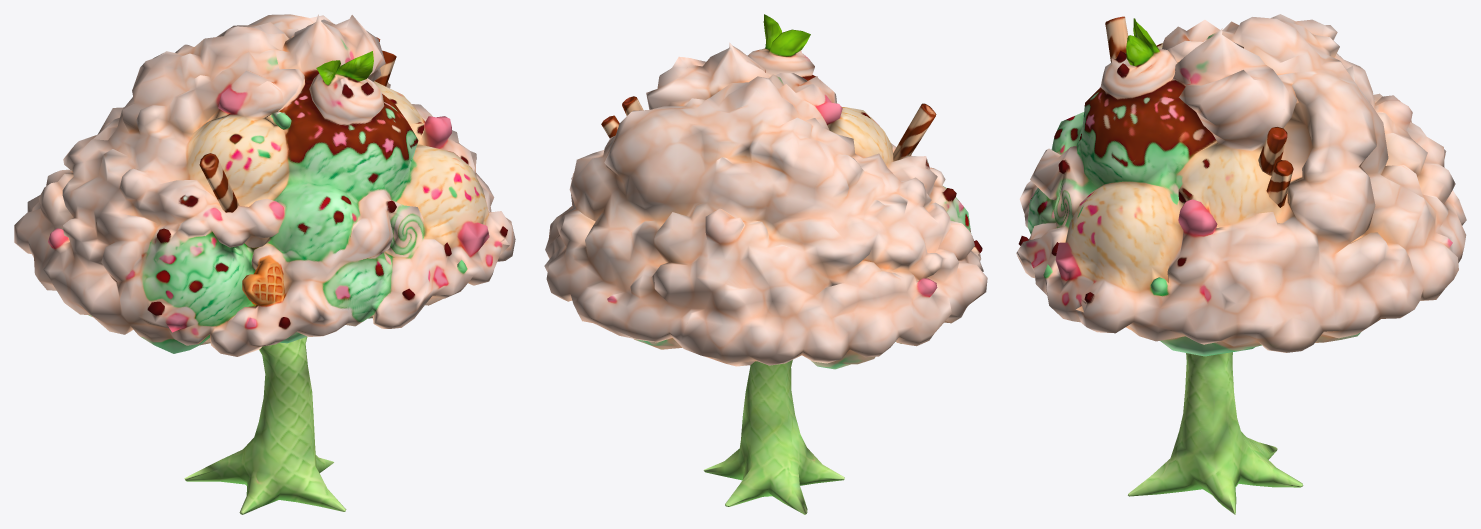
The model's file is snow64-sundae-tree-mint.glb.
The picture shows the model from 3 angles, left to right: view 1: azimuth 30°, elevation 25°; view 2: azimuth 150°, elevation 25°; view 3: azimuth 270°, elevation 25°; orthographic projection. The views are drawn at different scales.
Visible parts, largest first — view 1: geometry_0; view 2: geometry_0; view 3: geometry_0.
Boxes of the visible parts, x1,y1,x2,y2 form: geometry_0: [14, 14, 515, 514]; geometry_0: [544, 14, 987, 514]; geometry_0: [1016, 14, 1466, 514].
Size of the model in its own units: 0.9121 by 0.9526 by 0.8145.
Materials: 1 (1 with a texture image).
